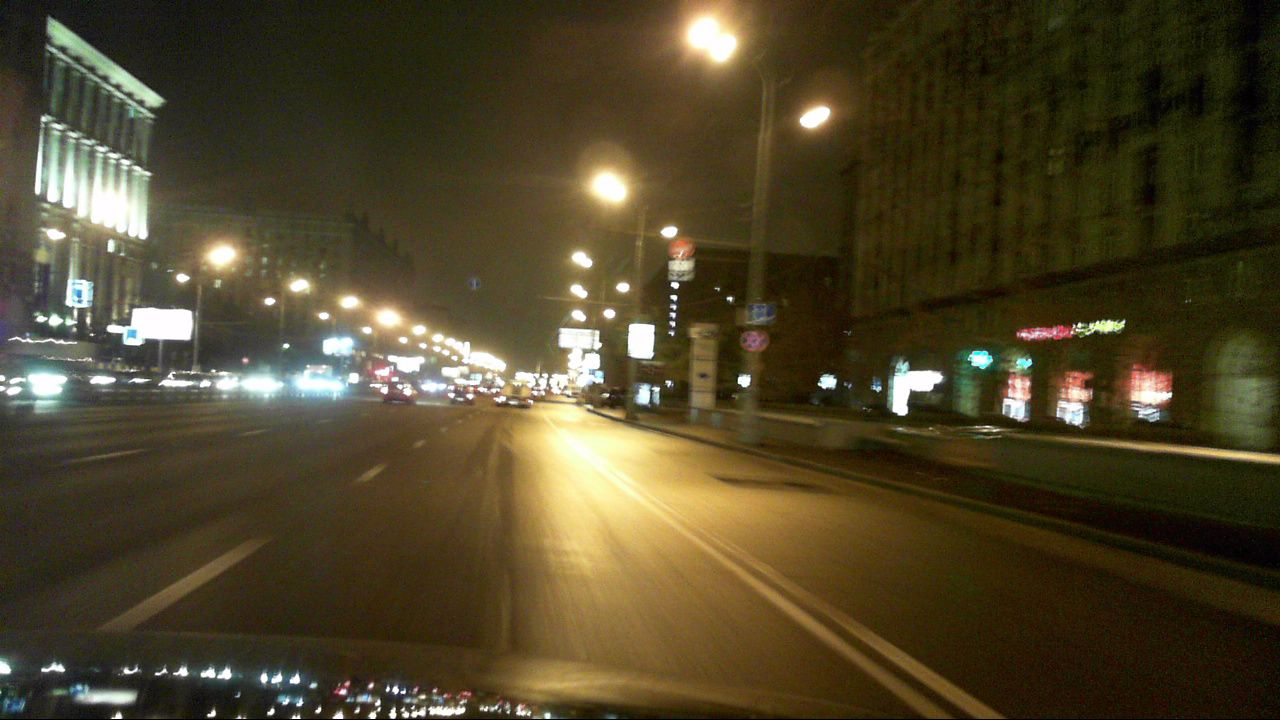No Parking: (739, 329, 761, 350)
